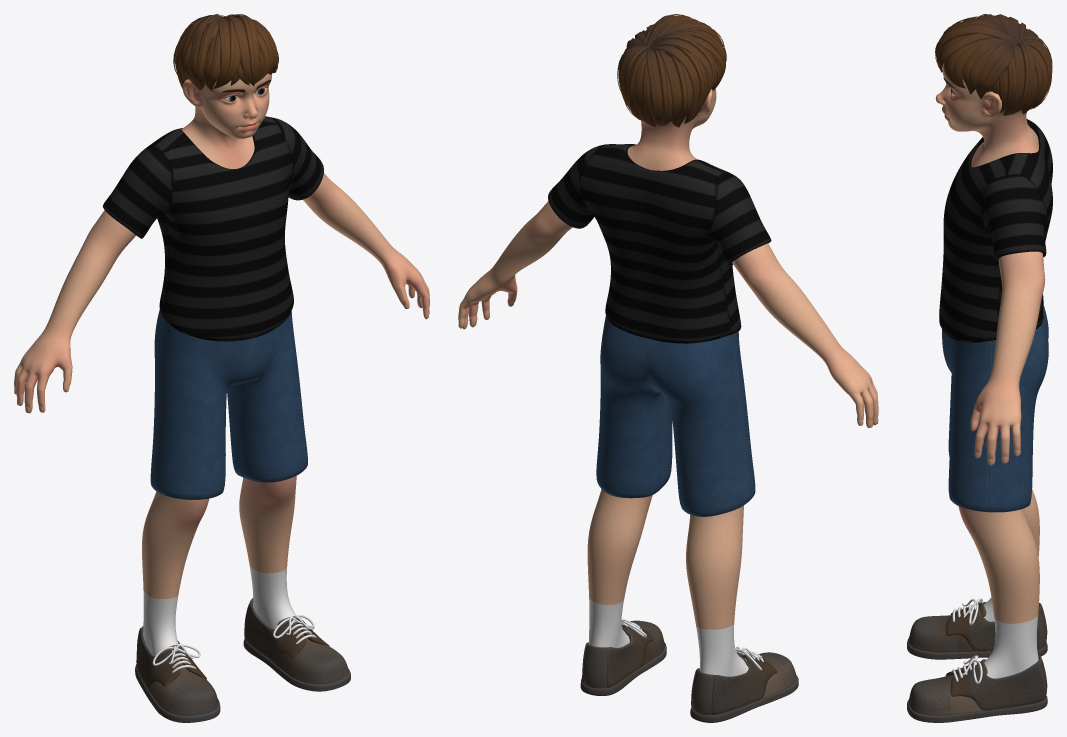
Rendered from boneco.glb.
3 views of the same model, side by side, from view 1: azimuth 30°, elevation 25°; view 2: azimuth 150°, elevation 25°; view 3: azimuth 270°, elevation 25° (orthographic).
Parts seen in each view (by area): view 1: TShirt_Cube.018, Shorts_Cube.017, Legs_Cube.004, Shoes_Cube.019, ArmR_Cube.002, MaleBase_Cube.005, ArmL_Cube.003, Hair1_NurbsPath.002, Hair2_NurbsPath.001, Laces_BezierCurve.001; view 2: TShirt_Cube.018, Shorts_Cube.017, Legs_Cube.004, Shoes_Cube.019, Hair1_NurbsPath.002, ArmR_Cube.002, ArmL_Cube.003, MaleBase_Cube.005, Hair3_NurbsPath.003; view 3: TShirt_Cube.018, Shorts_Cube.017, Shoes_Cube.019, Legs_Cube.004, ArmL_Cube.003, Hair3_NurbsPath.003, MaleBase_Cube.005, Hair2_NurbsPath.001, Hair1_NurbsPath.002, Laces_BezierCurve.001.
Boxes of the visible parts, left/top/right/bottom form: TShirt_Cube.018: left=102, top=116, right=323, bottom=341; Shorts_Cube.017: left=150, top=309, right=307, bottom=499; Legs_Cube.004: left=142, top=476, right=296, bottom=655; Shoes_Cube.019: left=135, top=598, right=350, bottom=722; ArmR_Cube.002: left=14, top=210, right=135, bottom=413; MaleBase_Cube.005: left=181, top=73, right=271, bottom=168; ArmL_Cube.003: left=303, top=173, right=429, bottom=319; Hair1_NurbsPath.002: left=173, top=14, right=272, bottom=91; Hair2_NurbsPath.001: left=224, top=14, right=274, bottom=86; Laces_BezierCurve.001: left=152, top=615, right=316, bottom=672; TShirt_Cube.018: left=548, top=144, right=771, bottom=343; Shorts_Cube.017: left=596, top=316, right=755, bottom=516; Legs_Cube.004: left=587, top=489, right=748, bottom=676; Shoes_Cube.019: left=580, top=620, right=798, bottom=722; Hair1_NurbsPath.002: left=629, top=19, right=726, bottom=127; ArmR_Cube.002: left=458, top=243, right=878, bottom=427; ArmL_Cube.003: left=458, top=201, right=572, bottom=329; MaleBase_Cube.005: left=627, top=89, right=716, bottom=170; Hair3_NurbsPath.003: left=617, top=24, right=678, bottom=127; TShirt_Cube.018: left=939, top=119, right=1052, bottom=342; Shorts_Cube.017: left=942, top=304, right=1048, bottom=512; Shoes_Cube.019: left=907, top=602, right=1047, bottom=722; Legs_Cube.004: left=958, top=489, right=1039, bottom=678; ArmL_Cube.003: left=970, top=251, right=1045, bottom=465; Hair3_NurbsPath.003: left=947, top=29, right=1051, bottom=115; MaleBase_Cube.005: left=935, top=61, right=1038, bottom=167; Hair2_NurbsPath.001: left=935, top=19, right=1013, bottom=72; Hair1_NurbsPath.002: left=943, top=14, right=1052, bottom=106; Laces_BezierCurve.001: left=952, top=598, right=982, bottom=683.
Bounding box in the file's own units: 40.3 × 62.34 × 12.51.
13 materials, 7 textured.
